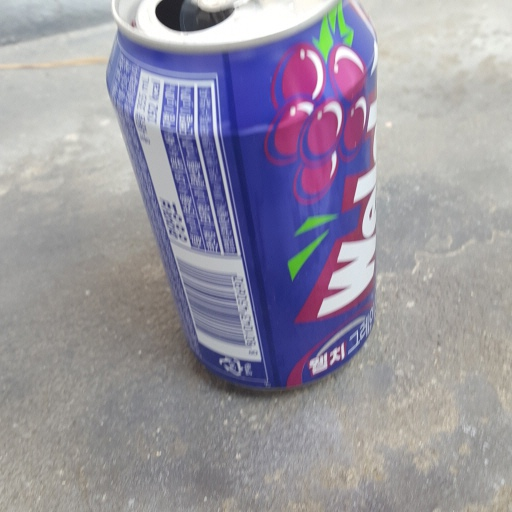Metal_0: (103, 1, 388, 396)
